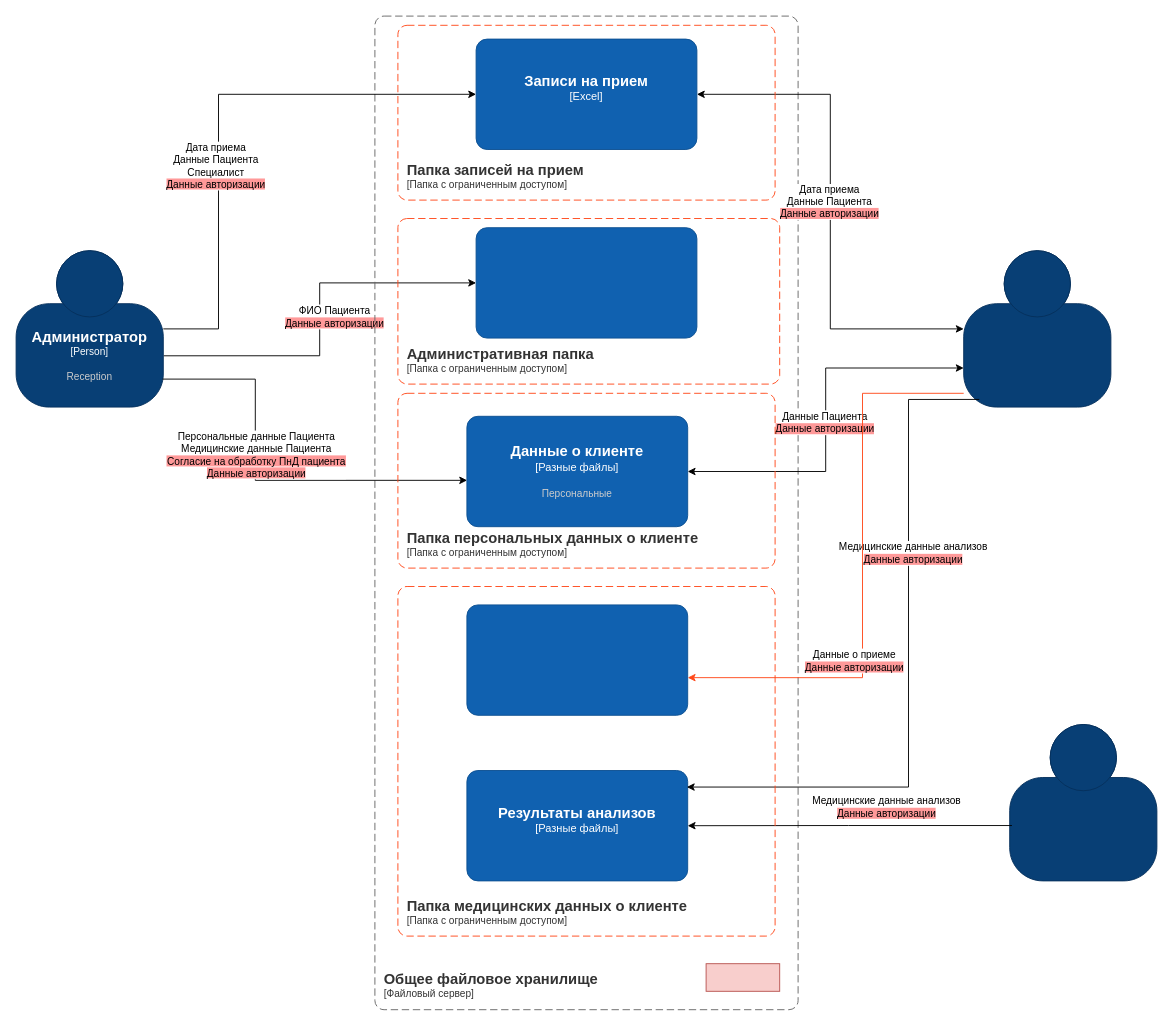
Image size: 1173x1026. Some labels were removed from this diagram. Each missing label, with the centre of its shape:
Encrypterd: (742,977)
Данные о клиенте [Разные файлы] Медицинские: (577,659)
Медицинский специалист [Person]: (1037,328)
Специалист лаборатории [Person]: (1083,802)
Список пациентов [Excel]: (586,282)
